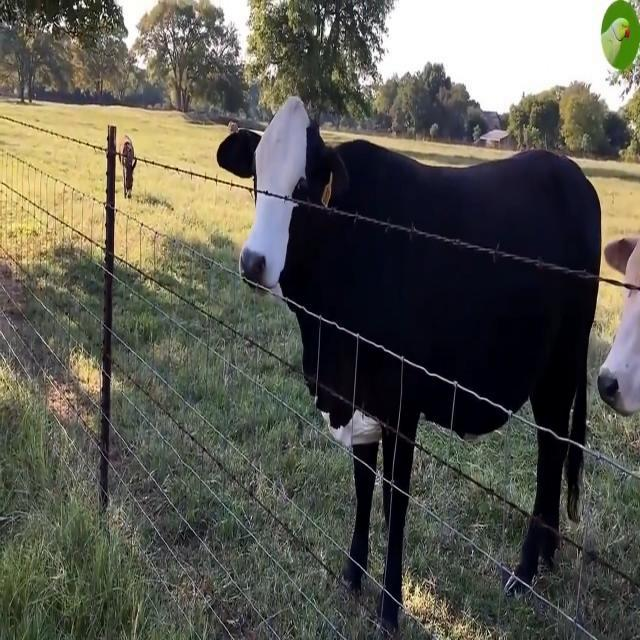COW: (220, 98, 600, 629)
